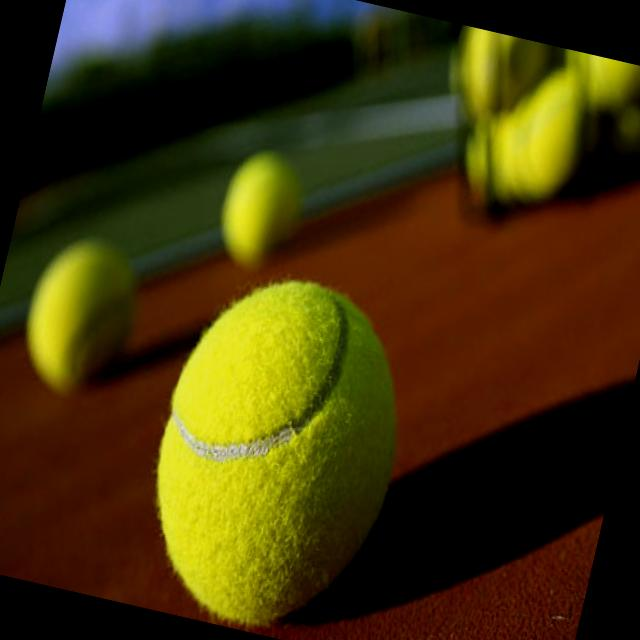Tennis Ball: (155, 279, 397, 628), (24, 237, 136, 400), (219, 150, 301, 268), (518, 81, 586, 193), (463, 26, 544, 112), (569, 49, 640, 100), (491, 105, 524, 201), (466, 121, 494, 202)
